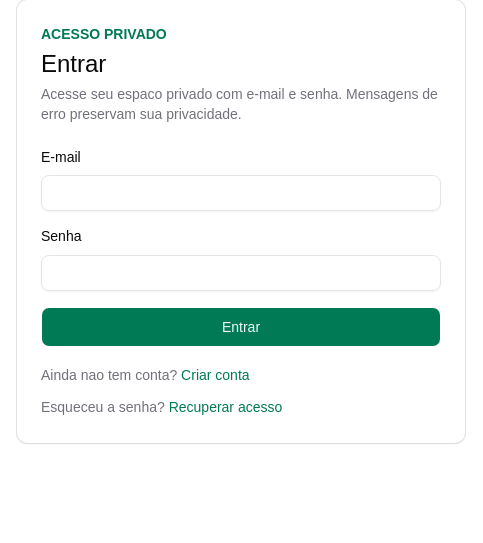
Scenario: LoginPage › shows generic invalid credential feedback
This screenshot has width=483, height=543.
Step 1. Type "ana@example.com" into the field labelled "E-mail" → (241, 193), box 41,175 -> 441,211
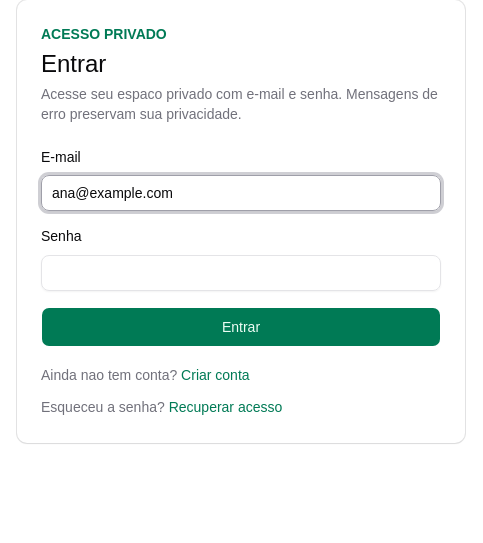
Step 2. Type "errada" into the password field labelled "Senha" → (241, 272), box 41,254 -> 441,290
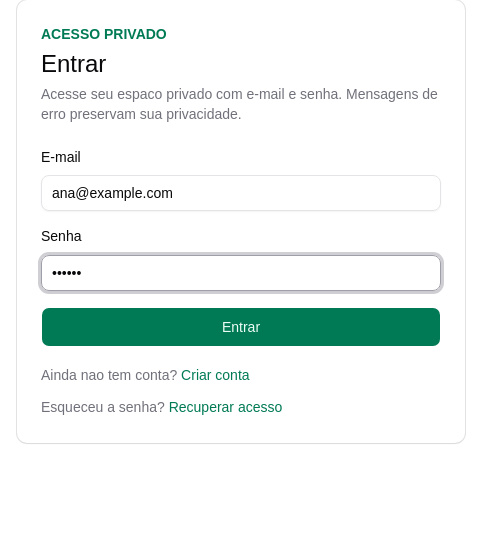
Step 3. Click the button "Entrar" → (241, 326), box 41,306 -> 441,346
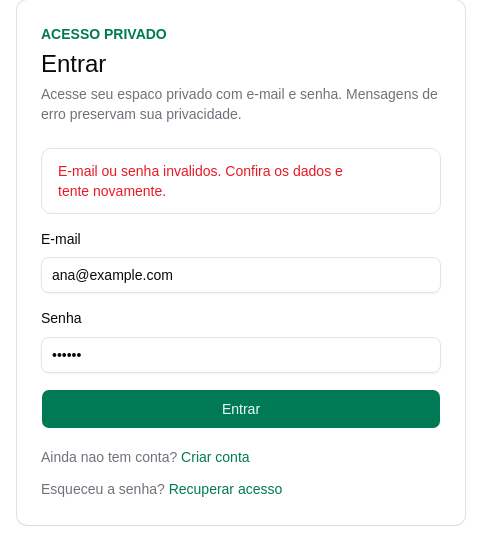
Expected: the text "E-mail ou senha invalidos. Confira os dados e tente novamente." is shown, 58,163 -> 343,199
